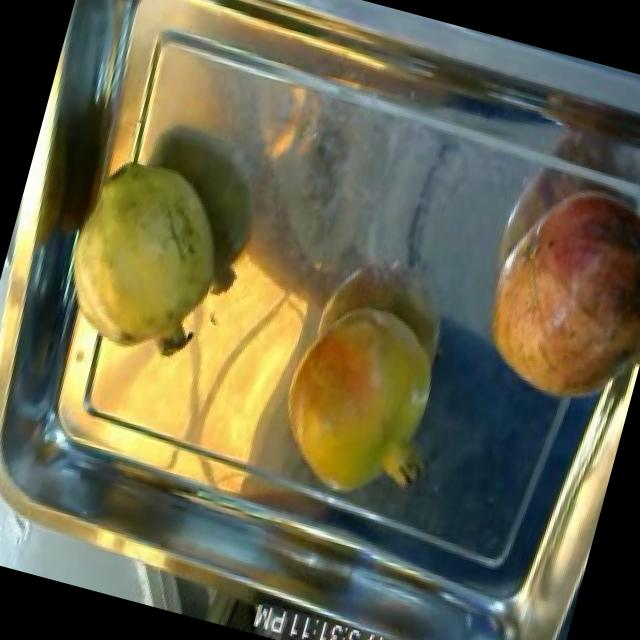fruit: (247, 272, 480, 532), (37, 131, 250, 389), (474, 157, 640, 431)
